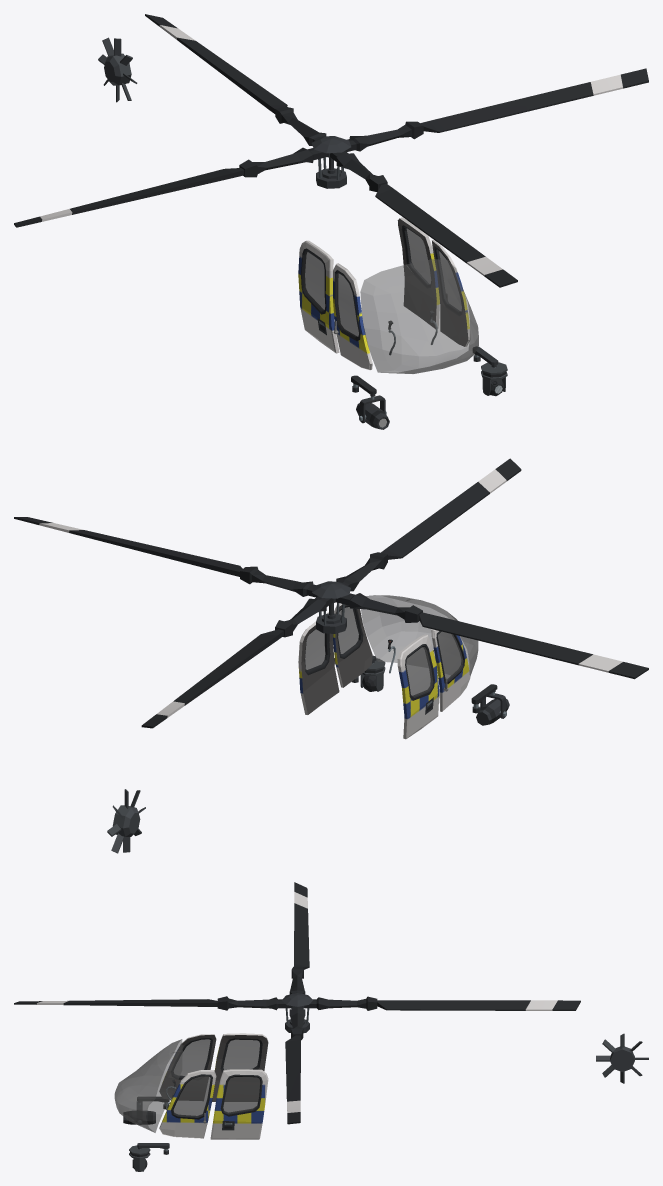
File: SM_Veh_Helicopter_01.fbx
3 renders of one model, top to bottom at view 1: azimuth 30°, elevation 25°; view 2: azimuth 150°, elevation 25°; view 3: azimuth 270°, elevation 25°, orthographic. The views are drawn at different scales.
Parts seen in each view (by area): view 1: SM_Veh_Helicopter_01, SM_Veh_Helicopter_01_Door_rr, SM_Veh_Helicopter_01_Door_rl, SM_Veh_Helicopter_01_Door_fr, SM_Veh_Helicopter_01_Door_fl, SM_Veh_Helicopter_01_Door_rr_Glass, SM_Veh_Helicopter_01_Door_fr_Glass, SM_Veh_Helicopter_01_Door_rl_Glass, SM_Veh_Helicopter_01_Door_fl_Glass; view 2: SM_Veh_Helicopter_01, SM_Veh_Helicopter_01_Door_rr, SM_Veh_Helicopter_01_Door_rl, SM_Veh_Helicopter_01_Door_fl, SM_Veh_Helicopter_01_Door_fr, SM_Veh_Helicopter_01_Door_rr_Glass, SM_Veh_Helicopter_01_Door_fr_Glass, SM_Veh_Helicopter_01_Door_rl_Glass, SM_Veh_Helicopter_01_Door_fl_Glass; view 3: SM_Veh_Helicopter_01, SM_Veh_Helicopter_01_Door_rl, SM_Veh_Helicopter_01_Door_rr, SM_Veh_Helicopter_01_Door_fl, SM_Veh_Helicopter_01_Door_fr, SM_Veh_Helicopter_01_Door_rl_Glass, SM_Veh_Helicopter_01_Door_fl_Glass, SM_Veh_Helicopter_01_Door_rr_Glass, SM_Veh_Helicopter_01_Door_fr_Glass.
Part boxes in pixels (x1,y1,x2,y2): SM_Veh_Helicopter_01: [14, 14, 648, 394]; SM_Veh_Helicopter_01_Door_rr: [298, 240, 339, 353]; SM_Veh_Helicopter_01_Door_rl: [397, 217, 439, 328]; SM_Veh_Helicopter_01_Door_fr: [333, 263, 372, 369]; SM_Veh_Helicopter_01_Door_fl: [432, 240, 470, 346]; SM_Veh_Helicopter_01_Door_rr_Glass: [302, 251, 325, 310]; SM_Veh_Helicopter_01_Door_fr_Glass: [336, 273, 358, 336]; SM_Veh_Helicopter_01_Door_rl_Glass: [406, 228, 430, 283]; SM_Veh_Helicopter_01_Door_fl_Glass: [438, 251, 461, 310]; SM_Veh_Helicopter_01: [14, 458, 648, 853]; SM_Veh_Helicopter_01_Door_rr: [397, 634, 439, 739]; SM_Veh_Helicopter_01_Door_rl: [298, 612, 339, 714]; SM_Veh_Helicopter_01_Door_fl: [333, 603, 372, 687]; SM_Veh_Helicopter_01_Door_fr: [431, 629, 470, 711]; SM_Veh_Helicopter_01_Door_rr_Glass: [406, 647, 432, 696]; SM_Veh_Helicopter_01_Door_fr_Glass: [438, 631, 463, 679]; SM_Veh_Helicopter_01_Door_rl_Glass: [305, 629, 325, 669]; SM_Veh_Helicopter_01_Door_fl_Glass: [338, 607, 358, 653]; SM_Veh_Helicopter_01: [14, 882, 648, 1154]; SM_Veh_Helicopter_01_Door_rl: [210, 1069, 268, 1139]; SM_Veh_Helicopter_01_Door_rr: [212, 1033, 268, 1101]; SM_Veh_Helicopter_01_Door_fl: [159, 1070, 216, 1138]; SM_Veh_Helicopter_01_Door_fr: [159, 1034, 216, 1100]; SM_Veh_Helicopter_01_Door_rl_Glass: [223, 1077, 260, 1113]; SM_Veh_Helicopter_01_Door_fl_Glass: [173, 1076, 210, 1116]; SM_Veh_Helicopter_01_Door_rr_Glass: [223, 1039, 259, 1069]; SM_Veh_Helicopter_01_Door_fr_Glass: [174, 1039, 210, 1075].
Bounding box in the file's own units: 1238 × 369 × 1387.
